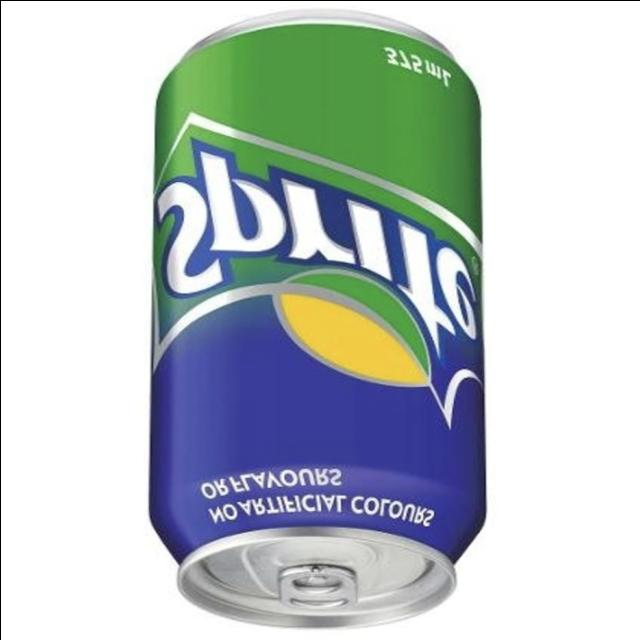can: (106, 6, 524, 628)
